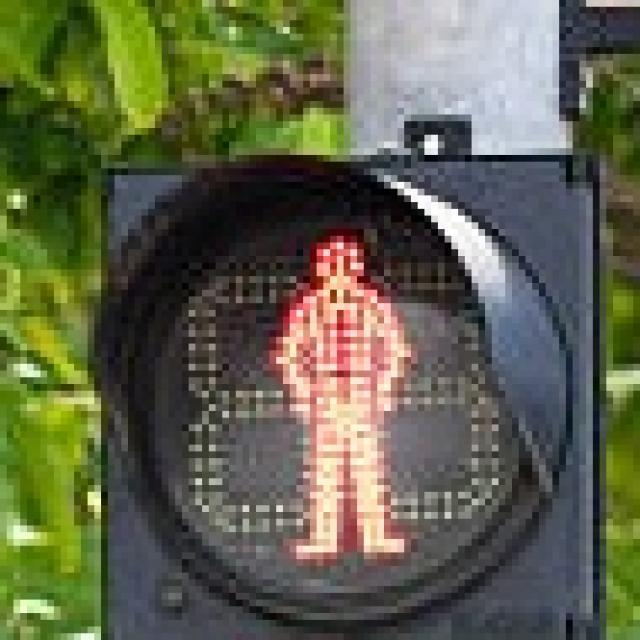red-crossing: (243, 202, 431, 580)
